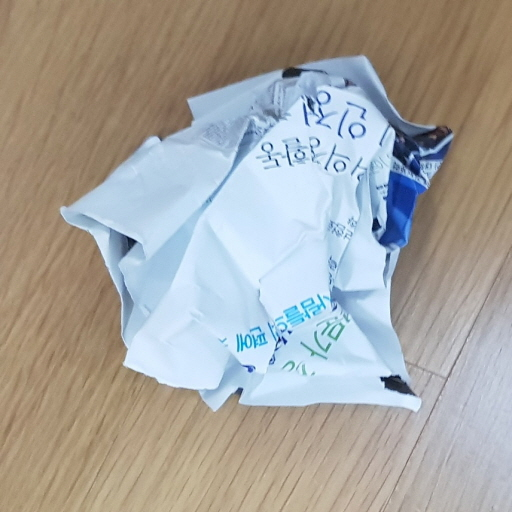Paper_3: (47, 43, 459, 438)
